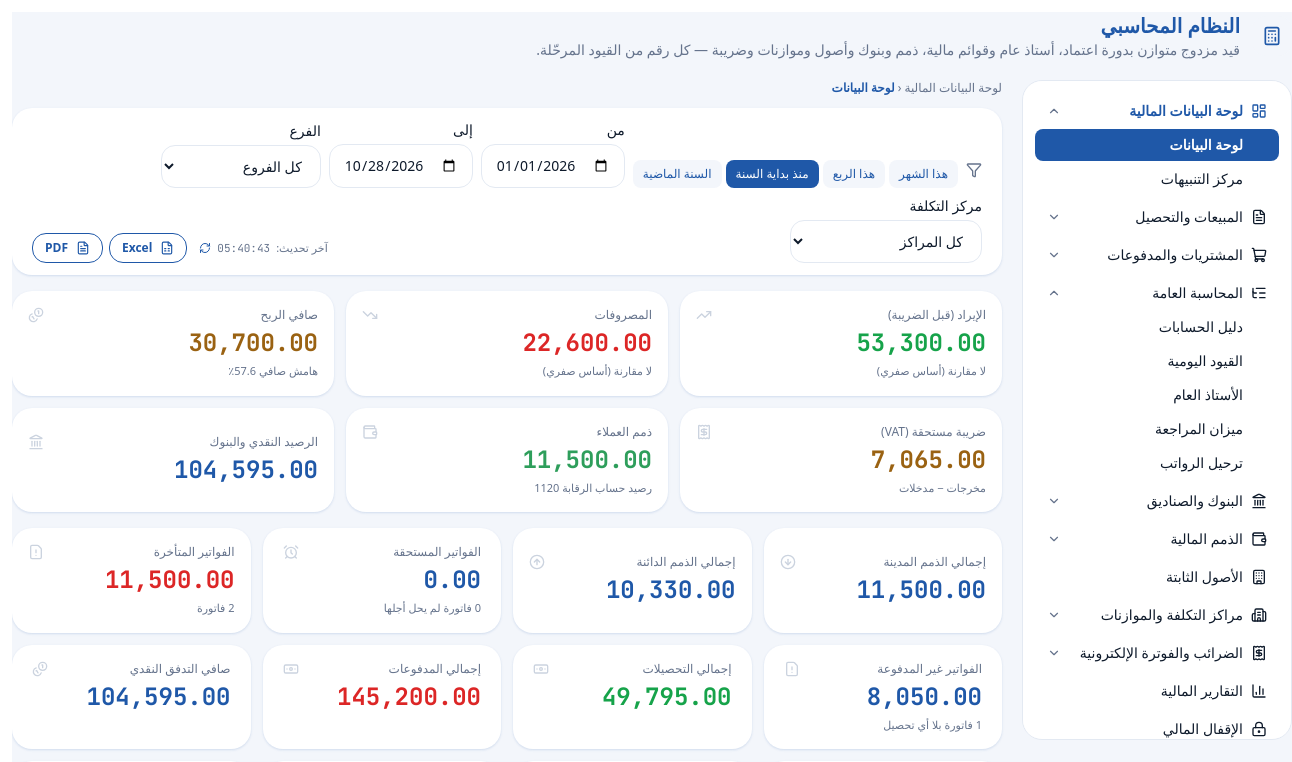
Test: accounting board (accountant) › journal shows workflow states with the seeded pending entry
Click the button "القيود اليومية" at [1157, 361], box x1=1035 y1=345 x2=1279 y2=377
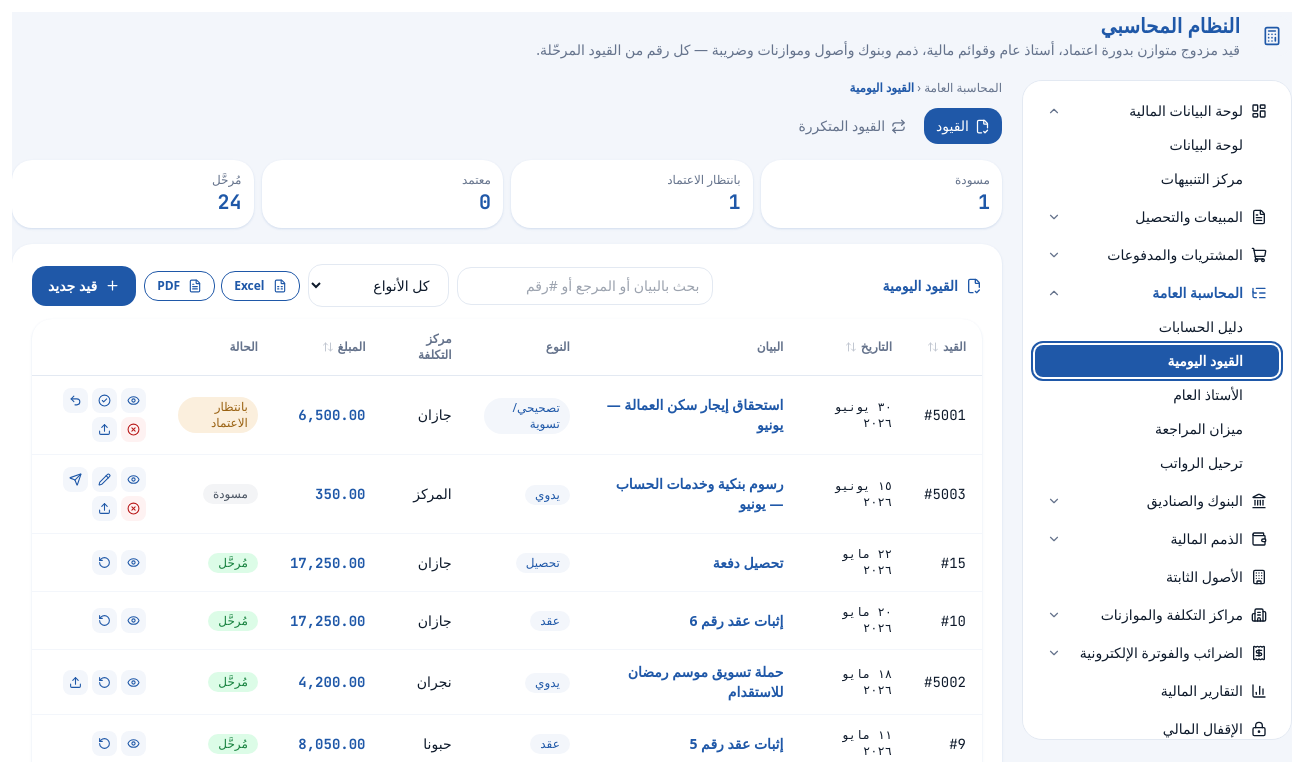
expect the text "استحقاق إيجار سكن العمالة — يونيو" is shown: met, box x1=607 y1=395 x2=783 y2=434
